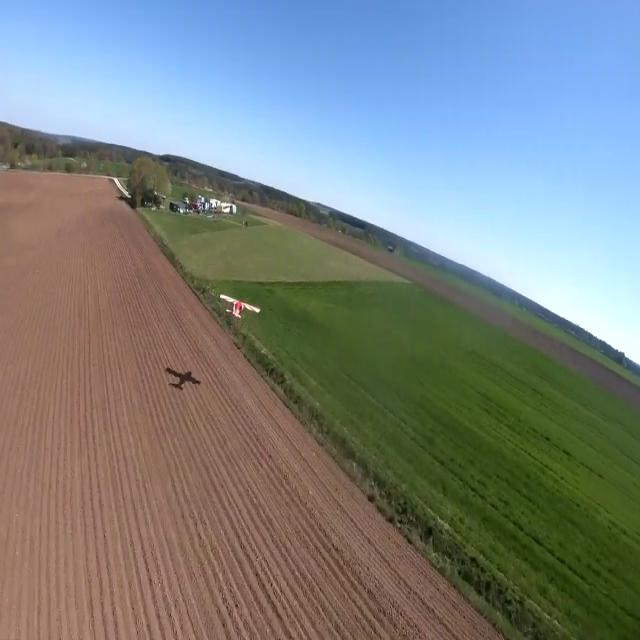iha: (222, 292, 258, 320)
